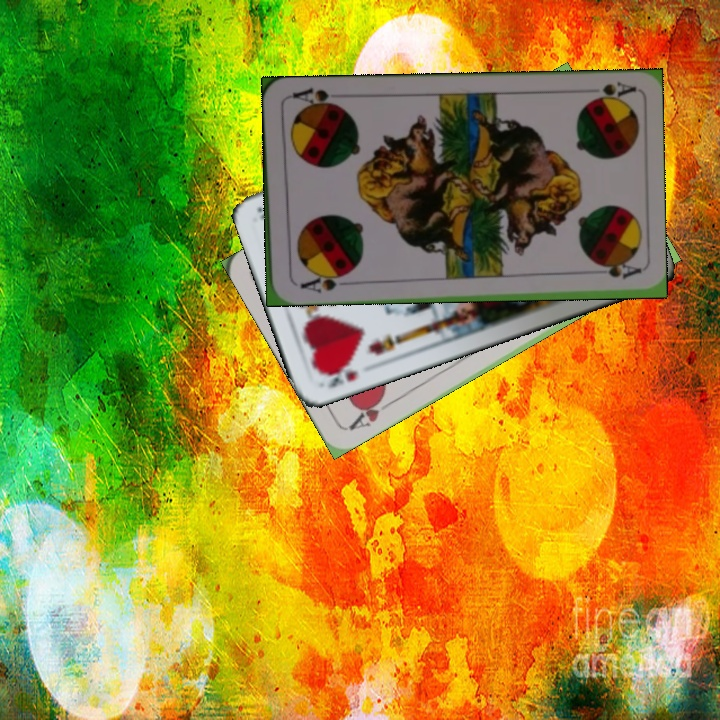HA: (344, 389, 398, 433)
HK: (316, 359, 360, 391)
SA: (583, 77, 636, 105), (296, 269, 350, 295)
